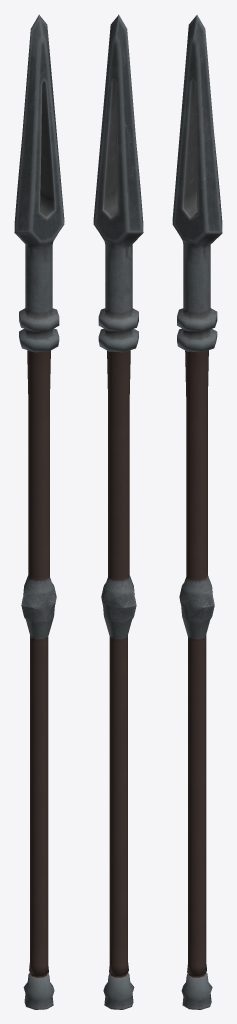
Rendered from spear.glb.
The picture shows the model from 3 angles, left to right: view 1: azimuth 30°, elevation 25°; view 2: azimuth 150°, elevation 25°; view 3: azimuth 330°, elevation 25°; orthographic projection.
Visible parts, largest first — view 1: spear; view 2: spear; view 3: spear.
Part boxes in pixels (x1,y1,x2,y2): spear: [14, 14, 64, 1009]; spear: [93, 14, 143, 1009]; spear: [172, 14, 222, 1009].
Size of the model in its own units: 0.386 by 7.3 by 0.281.
1 material, 1 textured.
